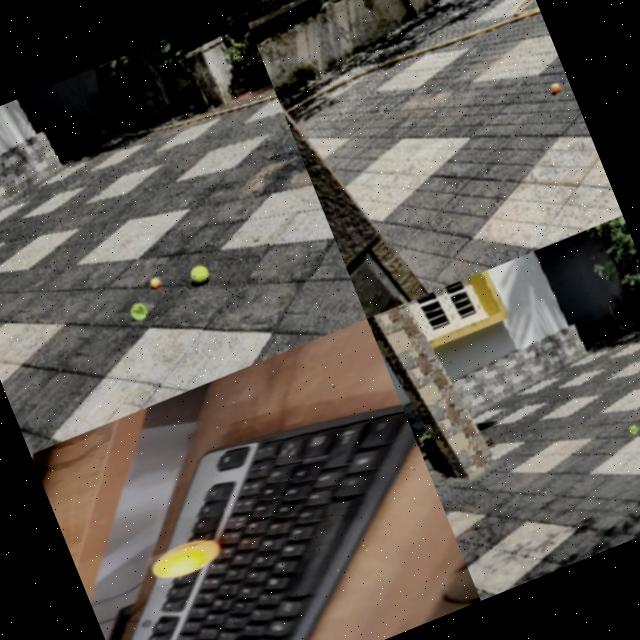ping-pong-ball: (144, 532, 222, 586), (148, 274, 160, 287), (549, 80, 560, 92), (638, 412, 640, 420)
